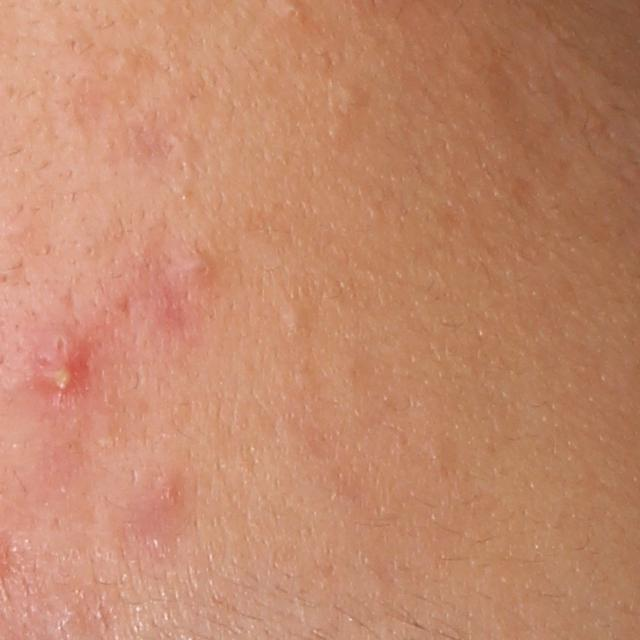comedo: (277, 306, 305, 335)
pustule: (39, 345, 84, 394)
